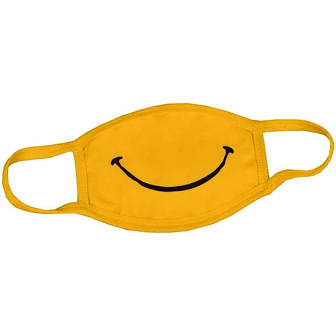FaceMask: (3, 103, 334, 233)
